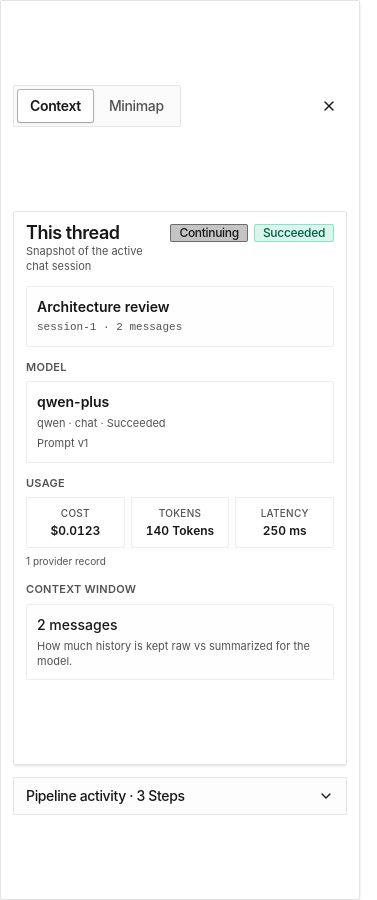
Test: WorkspaceInspectorPanel › keeps one authoritative trace DOM with visible count and exact milliseconds
Expected: the text "retrieve" is not shown
Click the button "Pipeline activity · 3 Steps" at (180, 796), box [13,777,347,815]
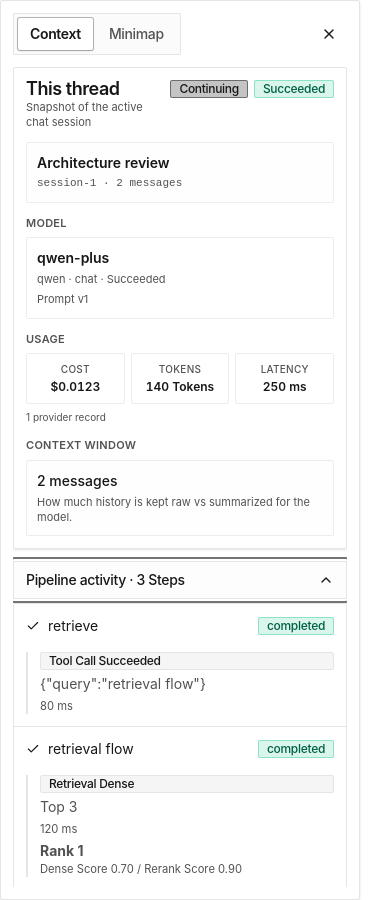
Expected: the text "retrieve" is shown once, [48,617,98,634]
Expected: the text "80 ms" is shown, [40,699,73,713]
